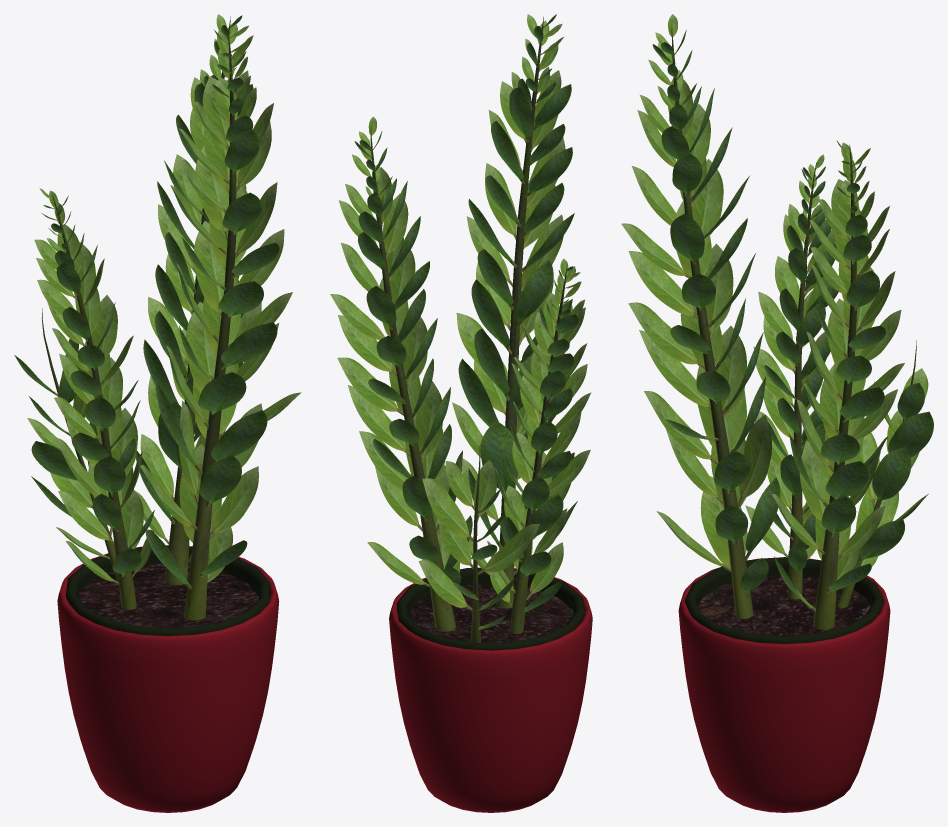
Rendered from Plant.fbx.
The picture shows the model from 3 angles, left to right: view 1: azimuth 30°, elevation 25°; view 2: azimuth 150°, elevation 25°; view 3: azimuth 270°, elevation 25°; orthographic projection. The views are drawn at different scales.
Visible parts, largest first — view 1: Circle; view 2: Circle; view 3: Circle.
Boxes of the visible parts, box(x1,y1,x2,y2) form: Circle: box(14, 14, 301, 812); Circle: box(330, 14, 592, 812); Circle: box(621, 14, 933, 812).
Size of the model in its own units: 237 by 760 by 280.
